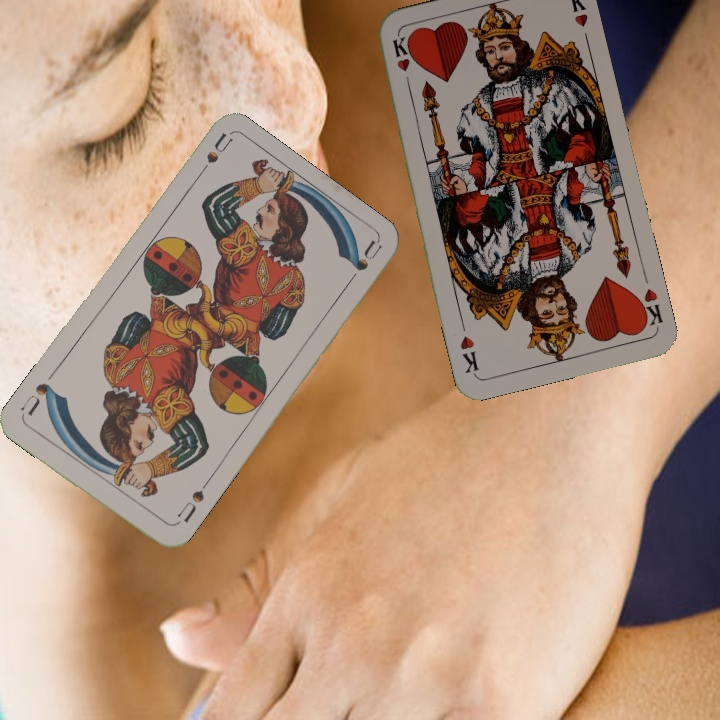HK: (632, 284, 665, 331), (389, 33, 414, 92)
SU: (191, 130, 234, 184), (170, 485, 207, 528)
